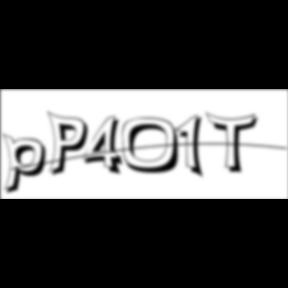1: (174, 114, 209, 182)
4: (83, 115, 130, 179)
O: (122, 117, 188, 176)
P: (48, 110, 94, 180)
T: (206, 112, 264, 176)
p: (3, 132, 53, 198)
